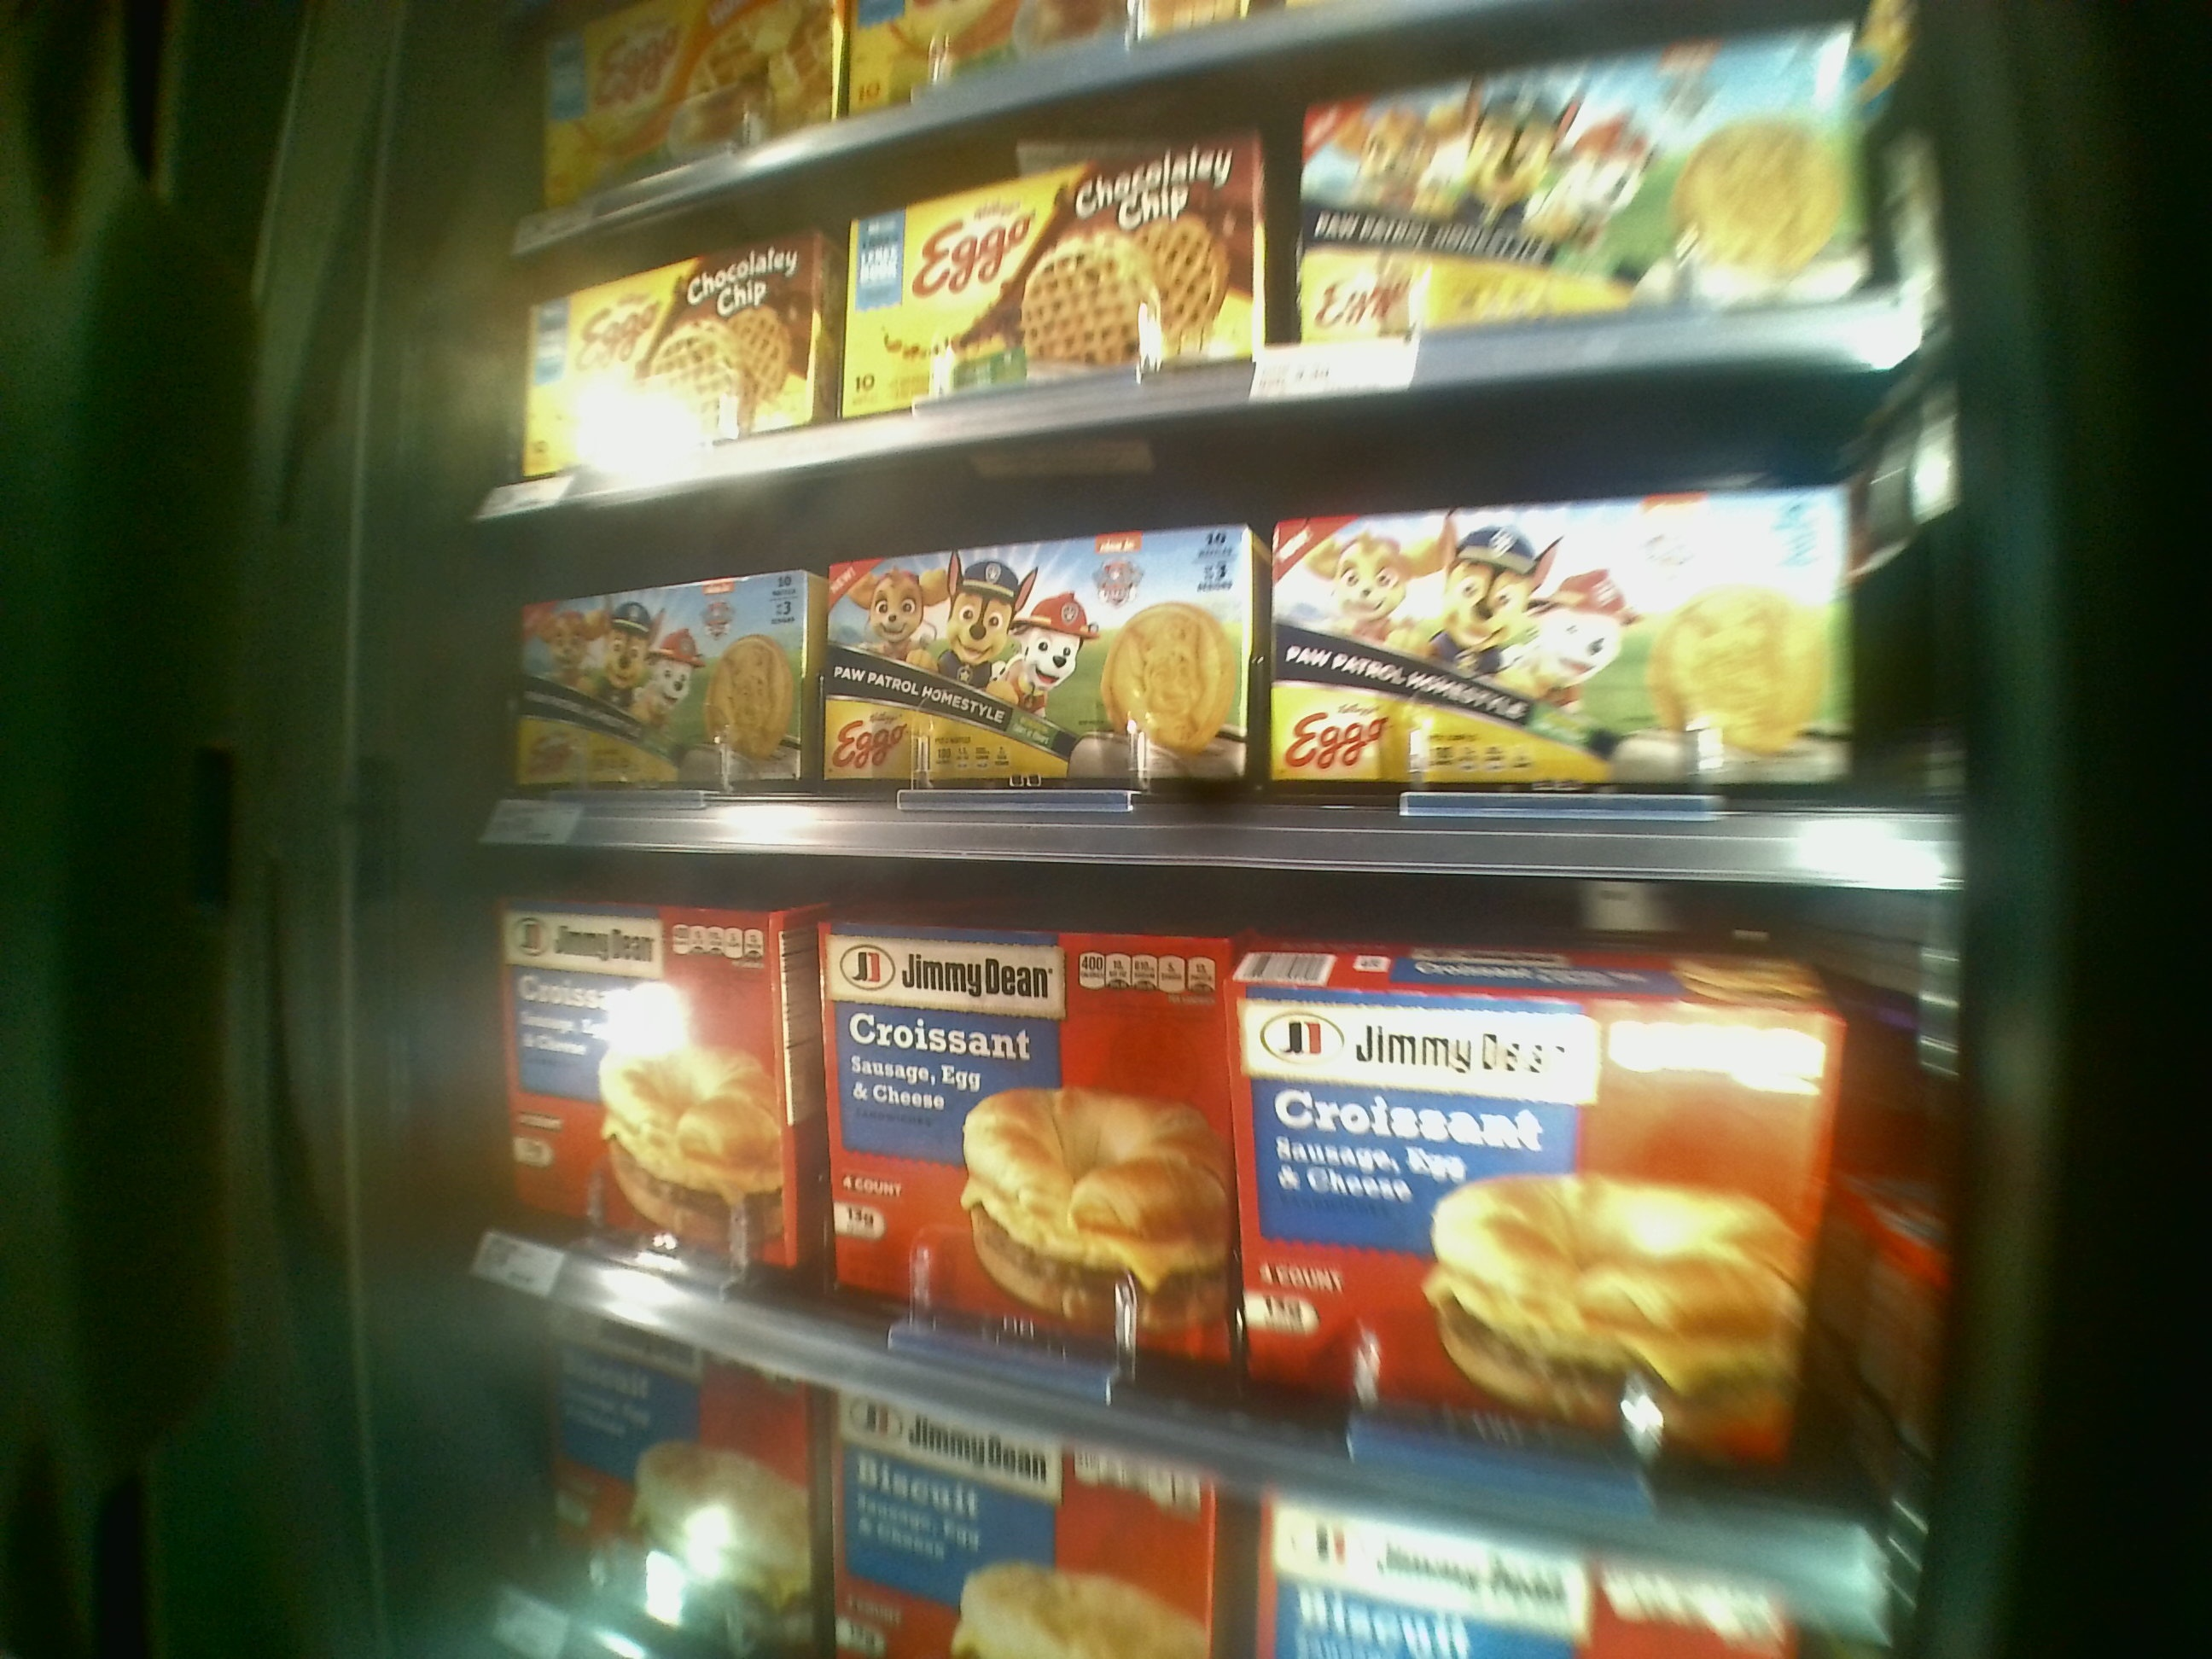shelf: (472, 357, 1956, 889)
